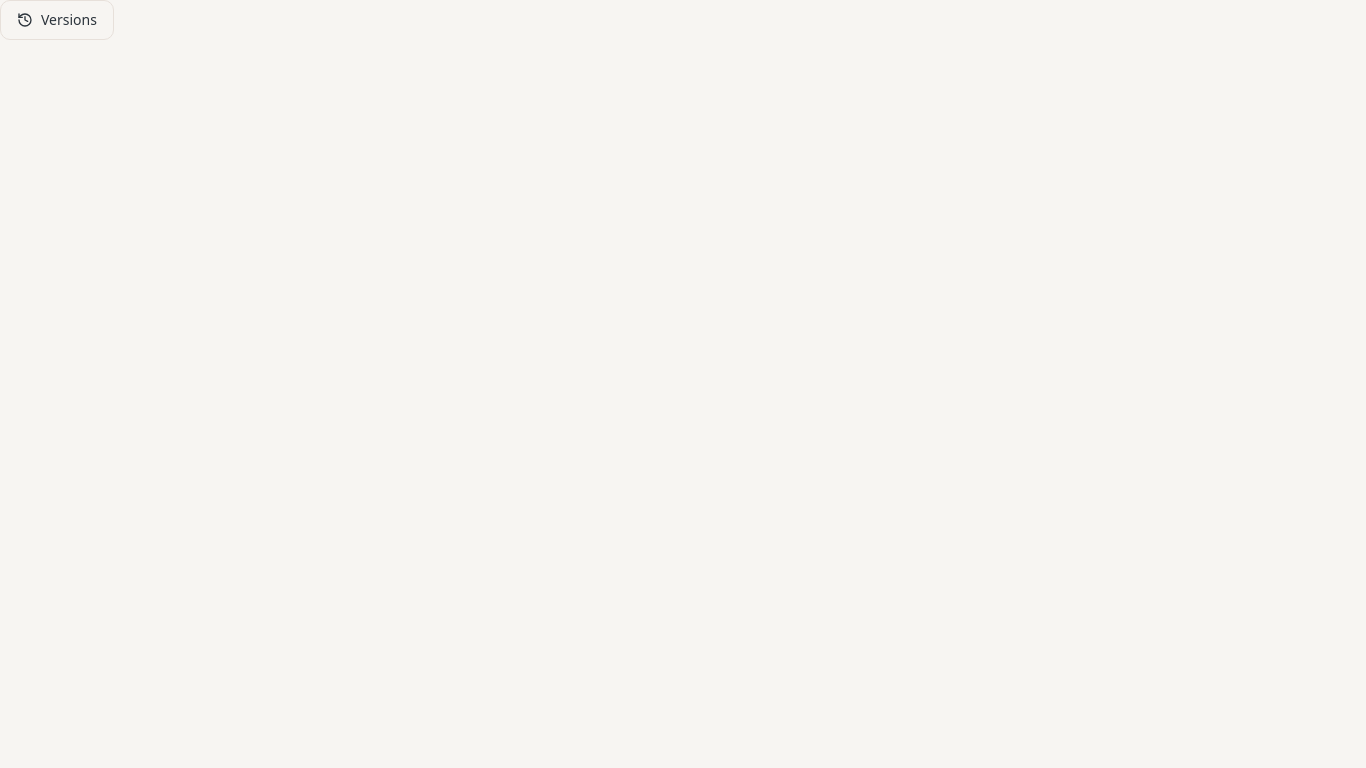
Scenario: reports stale-version failures without claiming restoration succeeded
Click the button "Versions" at (57, 20), box x1=0 y1=0 x2=114 y2=40
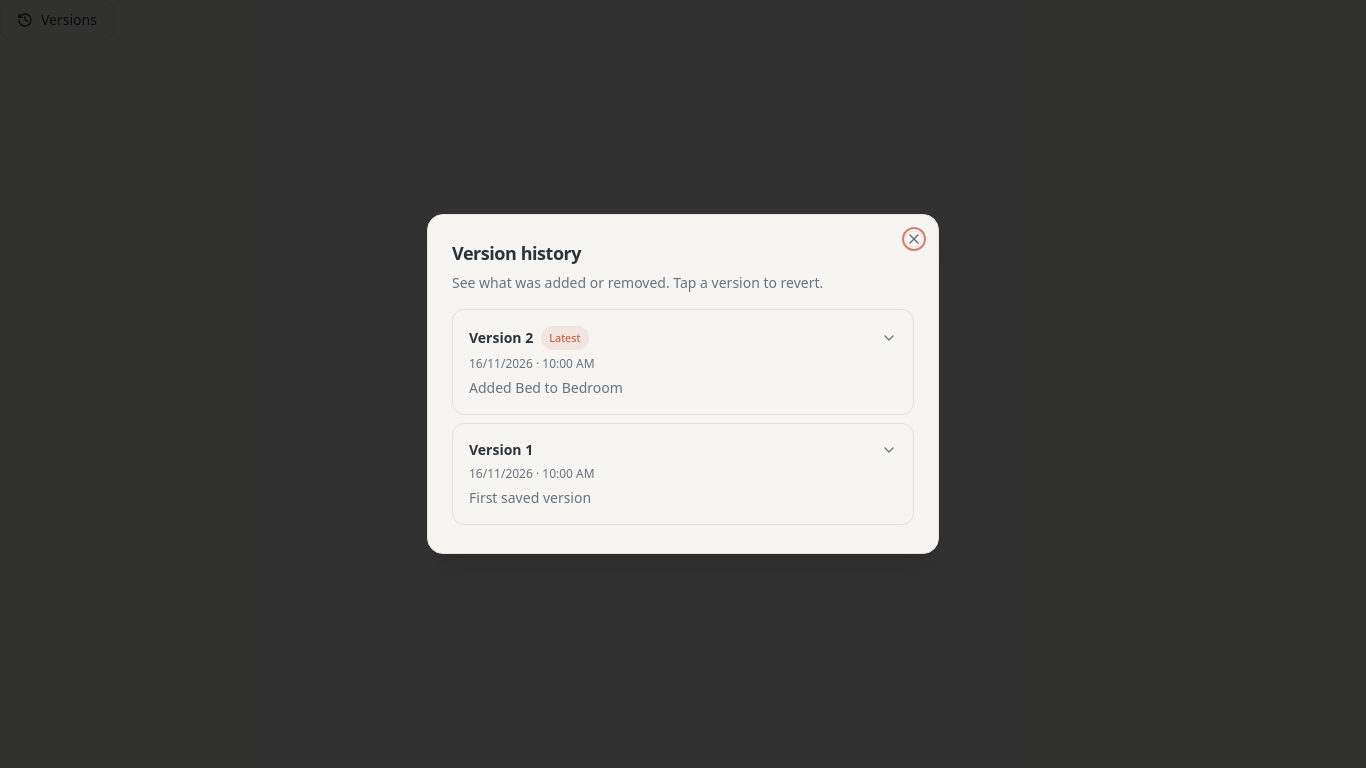
Expected: the text "First saved version" is shown, x1=469 y1=488 x2=591 y2=507
Click the button "Version 1 16/11/2026 · 10:00 AM First saved version" at (497, 450), box x1=453 y1=424 x2=913 y2=524
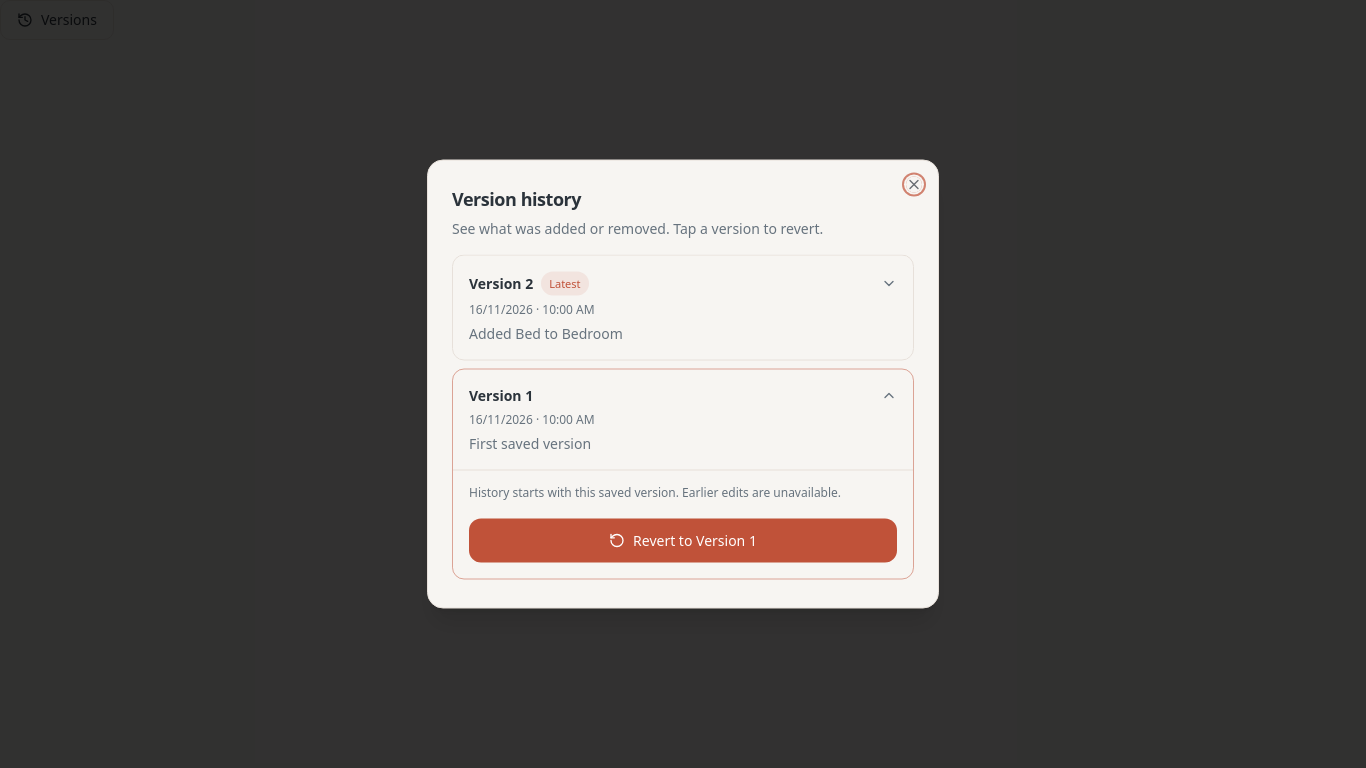
Click the button with aria-label "Revert to this version" at (683, 540), box x1=469 y1=518 x2=897 y2=562
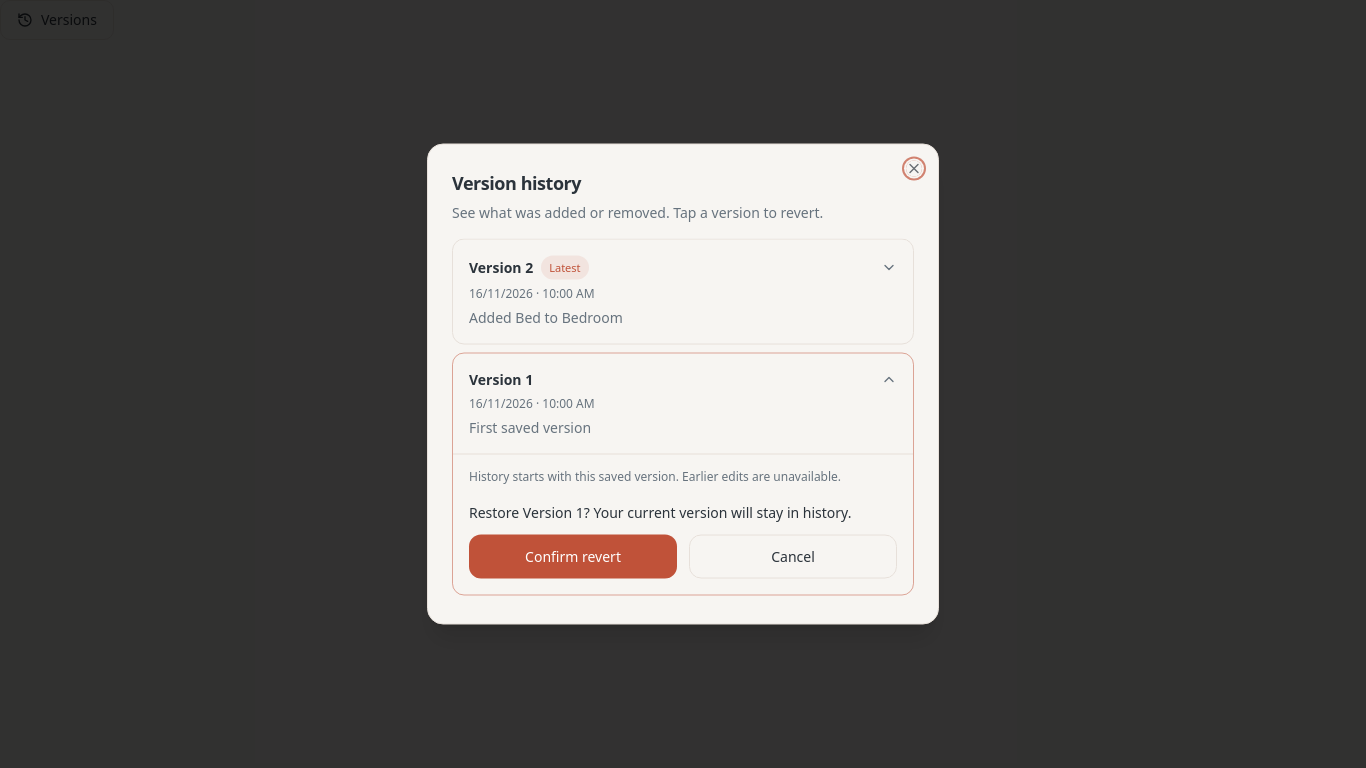
Click the button "Confirm revert" at (573, 556), box x1=469 y1=534 x2=677 y2=578
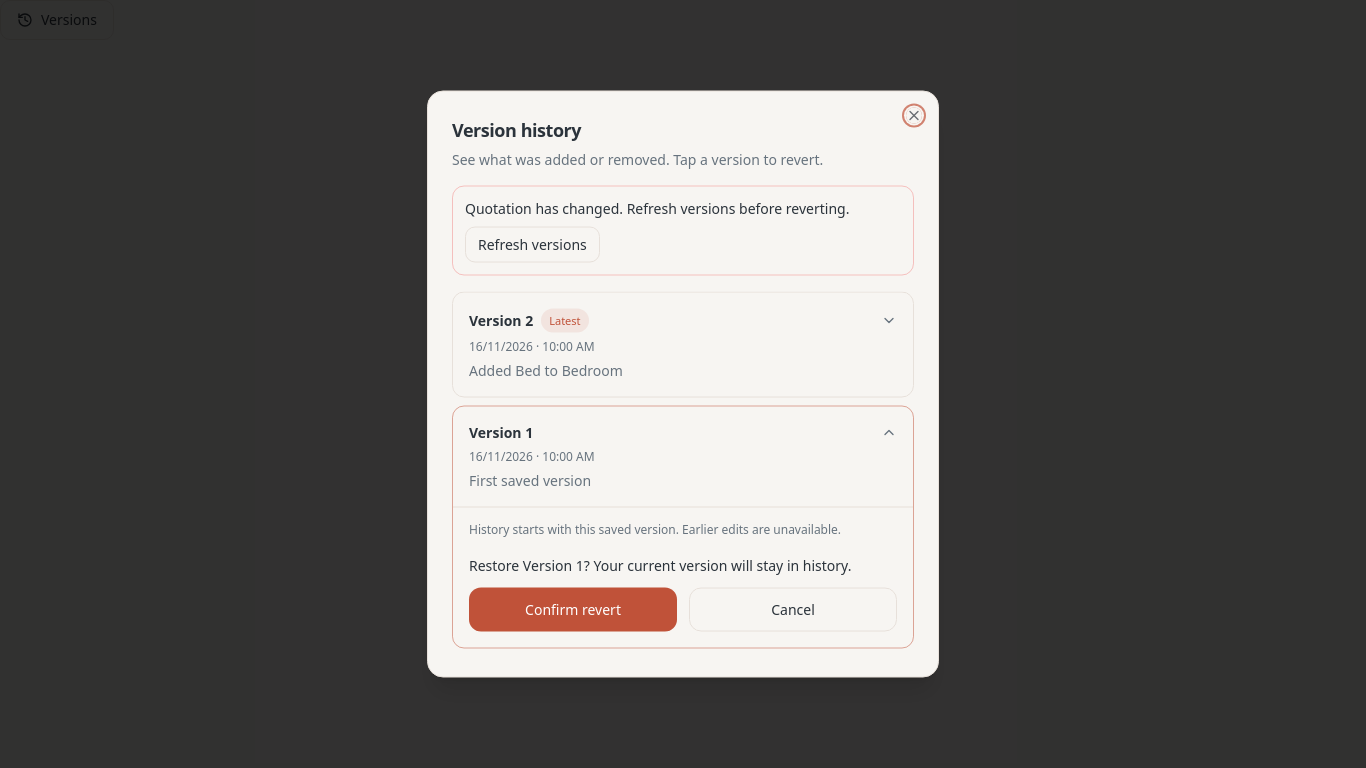
Expected: the message shows "Quotation has changed", x1=465 y1=198 x2=850 y2=218
